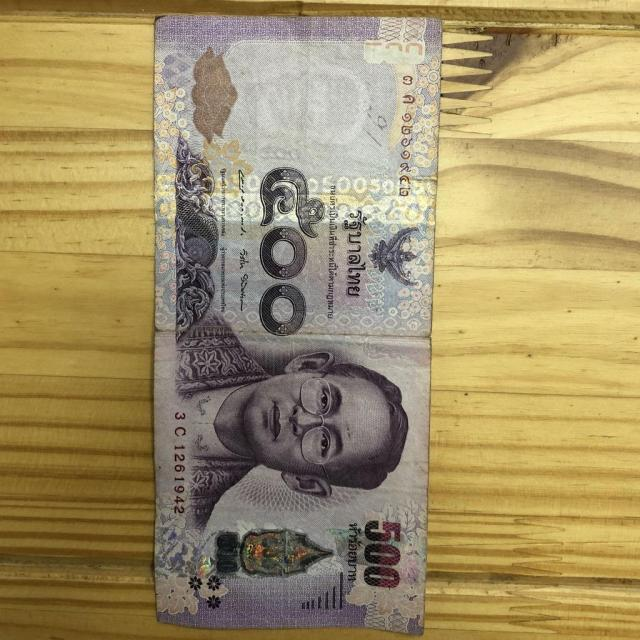THAI500: (154, 16, 442, 633)
